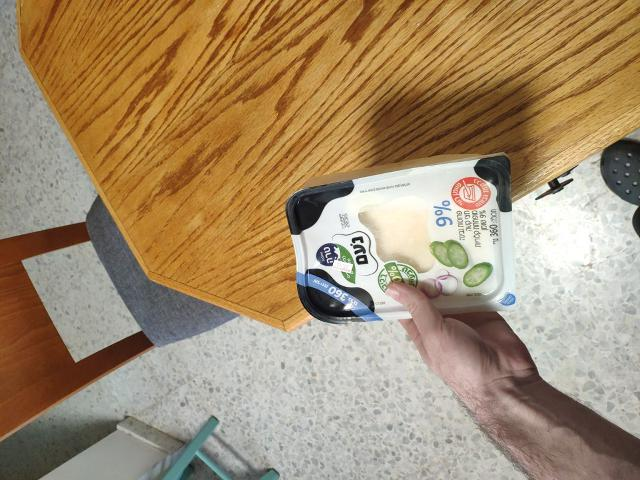cheese: (287, 156, 516, 346)
